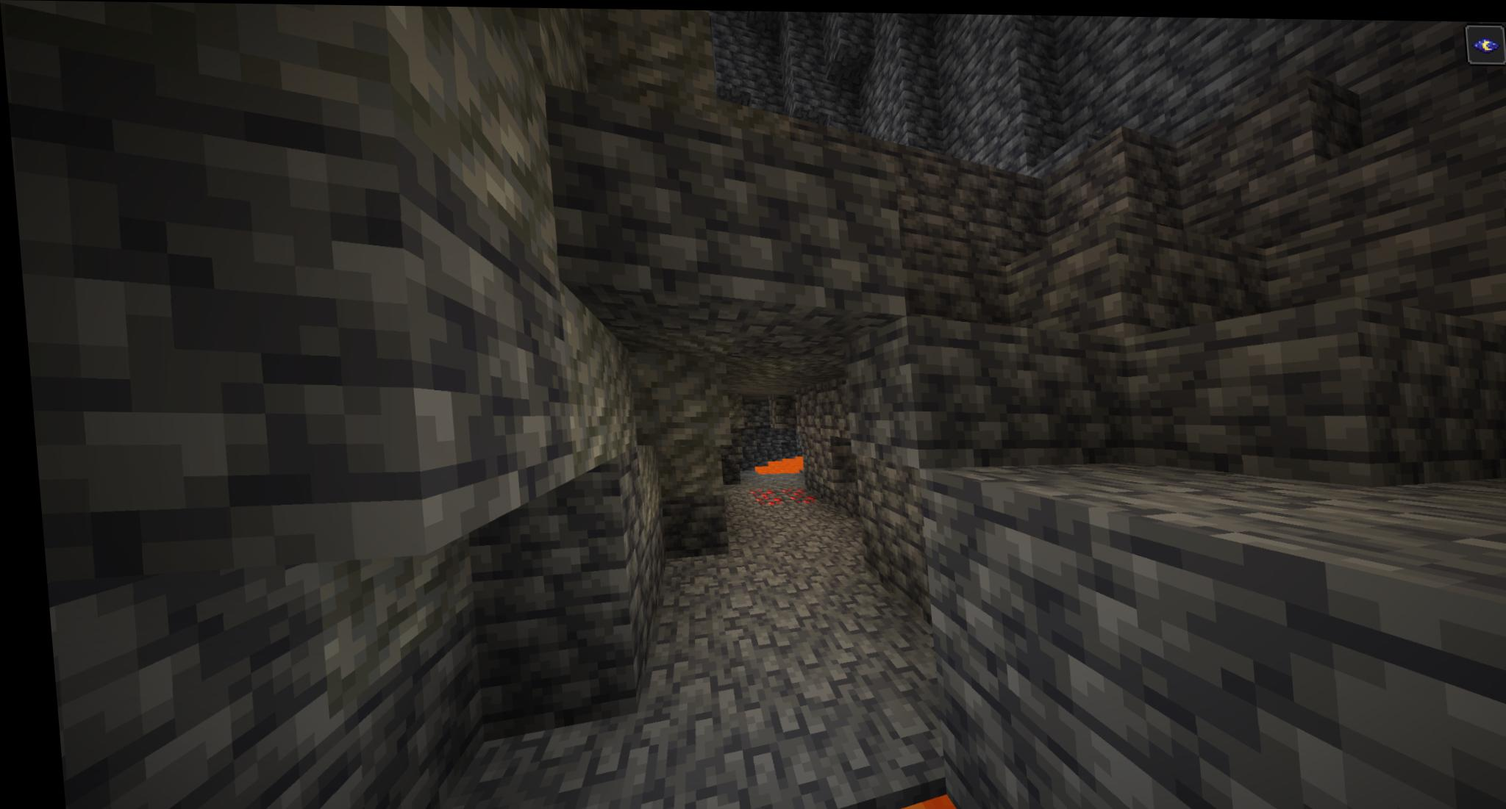redstone ore: (746, 486, 807, 507)
